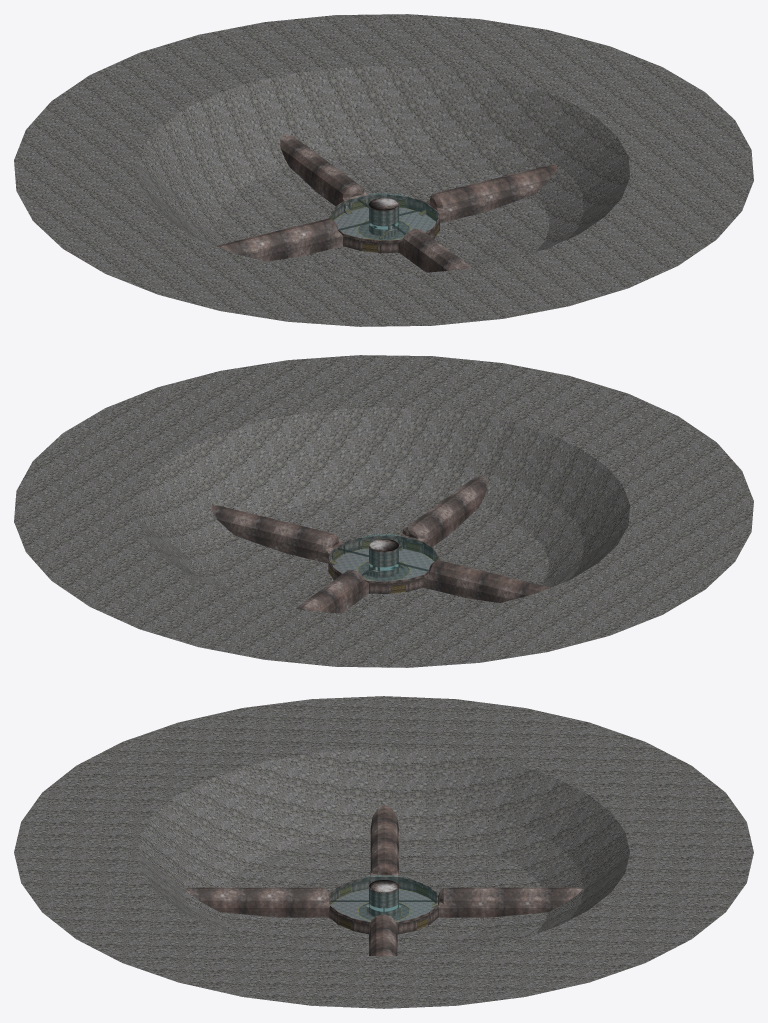
File: hub_area.glb
3 views of the same model, one above another, from view 1: azimuth 30°, elevation 25°; view 2: azimuth 150°, elevation 25°; view 3: azimuth 270°, elevation 25° (orthographic).
Visible parts, largest first — view 1: Moon, Tubes, GlassTrim.001, WallsDoors, Middle, GlassTrim; view 2: Moon, Tubes, GlassTrim.001, WallsDoors, Middle, GlassTrim; view 3: Moon, Tubes, WallsDoors, GlassTrim.001, Middle, GlassTrim.
Boxes of the visible parts, box(x1,y1,x2,y2) form: Moon: box(14, 14, 753, 326); Tubes: box(216, 134, 556, 272); GlassTrim.001: box(333, 207, 435, 240); WallsDoors: box(328, 197, 439, 253); Middle: box(369, 198, 399, 236); GlassTrim: box(329, 194, 439, 242); Moon: box(14, 355, 753, 667); Tubes: box(211, 475, 550, 613); GlassTrim.001: box(333, 548, 434, 581); WallsDoors: box(328, 538, 439, 593); Middle: box(369, 539, 398, 577); GlassTrim: box(329, 535, 438, 583); Moon: box(14, 696, 753, 1008); Tubes: box(185, 805, 582, 956); WallsDoors: box(329, 879, 438, 934); GlassTrim.001: box(330, 888, 435, 921); Middle: box(369, 880, 398, 917); GlassTrim: box(329, 876, 437, 923).
Bounding box in the file's own units: 519 × 54.63 × 519.
Materials: 12 (11 with a texture image).
